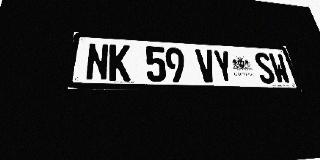5: (145, 46, 167, 82)
9: (165, 47, 187, 82)
K: (109, 44, 130, 81)
N: (85, 43, 109, 81)
S: (253, 52, 277, 84)
V: (195, 49, 218, 83)
W: (268, 53, 292, 84)
Y: (212, 50, 235, 83)
